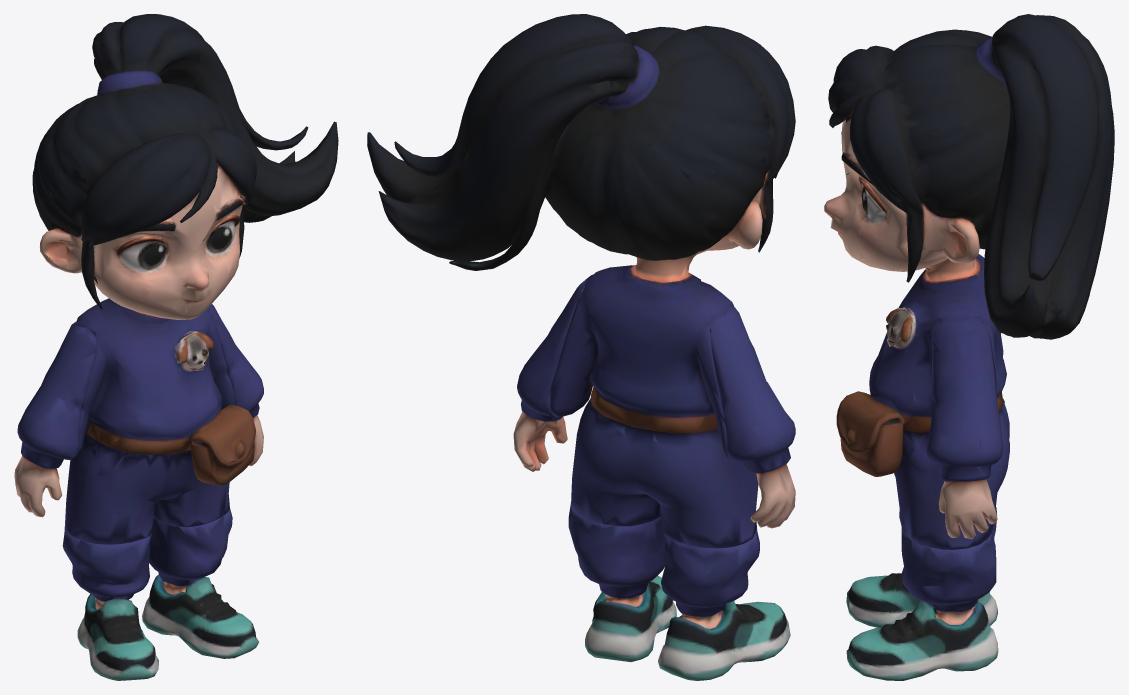
The model's file is woman_2_parts_rig_backup.glb.
The picture shows the model from 3 angles, left to right: view 1: azimuth 30°, elevation 25°; view 2: azimuth 150°, elevation 25°; view 3: azimuth 270°, elevation 25°; orthographic projection. The views are drawn at different scales.
Visible parts, largest first — view 1: torso, leg_left, leg_right, arm_right, arm_left; view 2: torso, leg_right, leg_left, arm_right, arm_left; view 3: torso, leg_left, arm_left, leg_right.
Boxes of the visible parts, x1,y1,x2,y2 form: torso: (32,14,338,544); leg_left: (142,506,258,658); leg_right: (62,528,158,680); arm_right: (14,319,96,517); arm_left: (209,304,263,465); torso: (367,14,795,548); leg_right: (658,529,790,680); leg_left: (568,505,676,661); arm_right: (710,302,795,528); arm_left: (513,280,586,471); torso: (824,14,1114,549); leg_left: (846,525,998,680); arm_left: (926,316,1003,539); leg_right: (846,507,997,627).
Bounding box in the file's own units: 0.6199 × 1 × 0.4106.
1 material, 1 textured.
